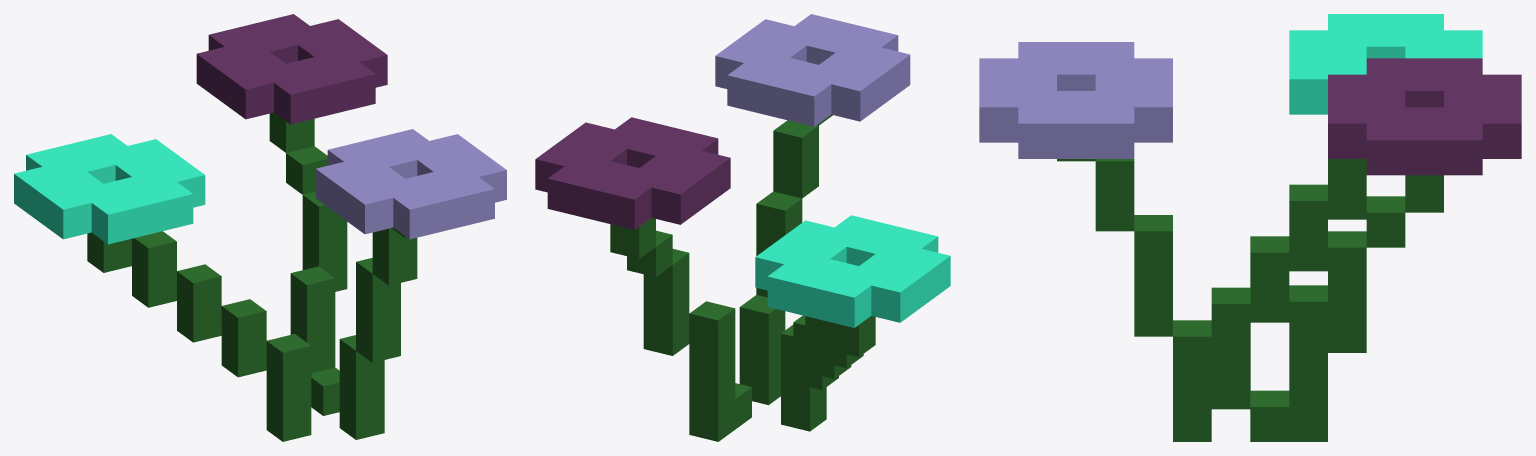
File: Flower2.obj
3 views of the same model, side by side, from view 1: azimuth 30°, elevation 25°; view 2: azimuth 150°, elevation 25°; view 3: azimuth 270°, elevation 25° (orthographic). The views are drawn at different scales.
Visible parts, largest first — view 1: Flower1; view 2: Flower1; view 3: Flower1.
Part boxes in pixels (x1,y1,x2,y2): Flower1: (14,14,506,441); Flower1: (535,14,950,441); Flower1: (979,14,1521,441).
Bounding box in the file's own units: 12 × 10 × 14.
1 material, 1 textured.
